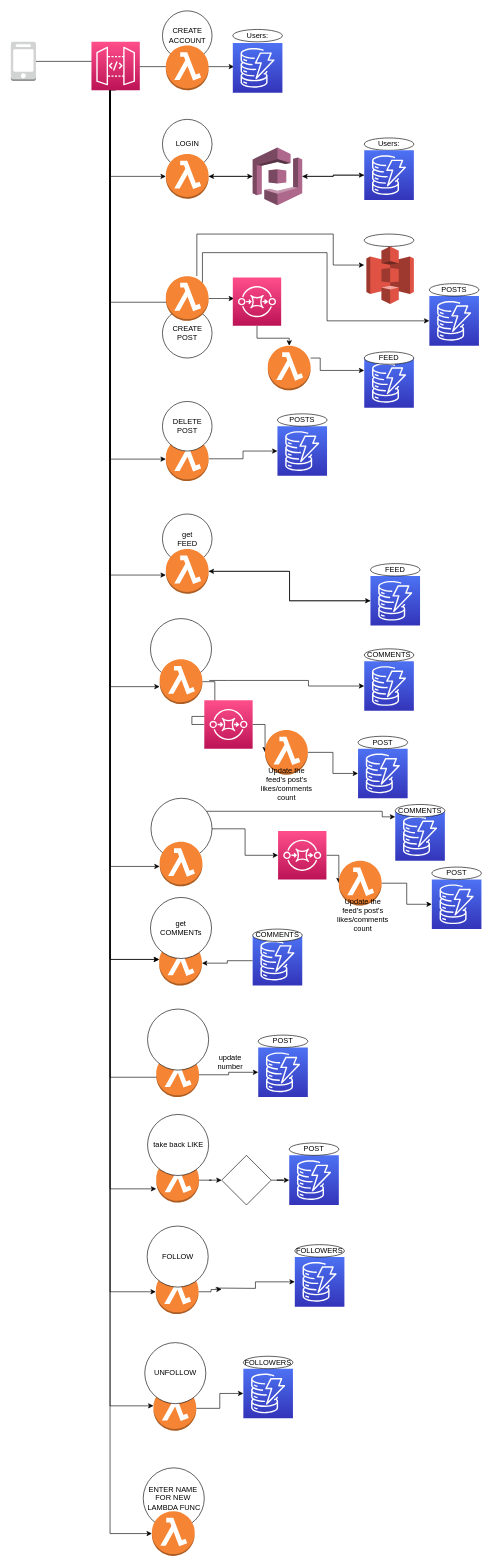
Some shapes in this 492 by 1567 pixel diagram are drawn without their labels. Each missing label, with the centre of its shape:
create COMMENT: [181,649]
delete COMMENT: [181,828]
if you have you liked: [246,1180]
LIKE: [178,1039]
POSTS imags: [389,239]
